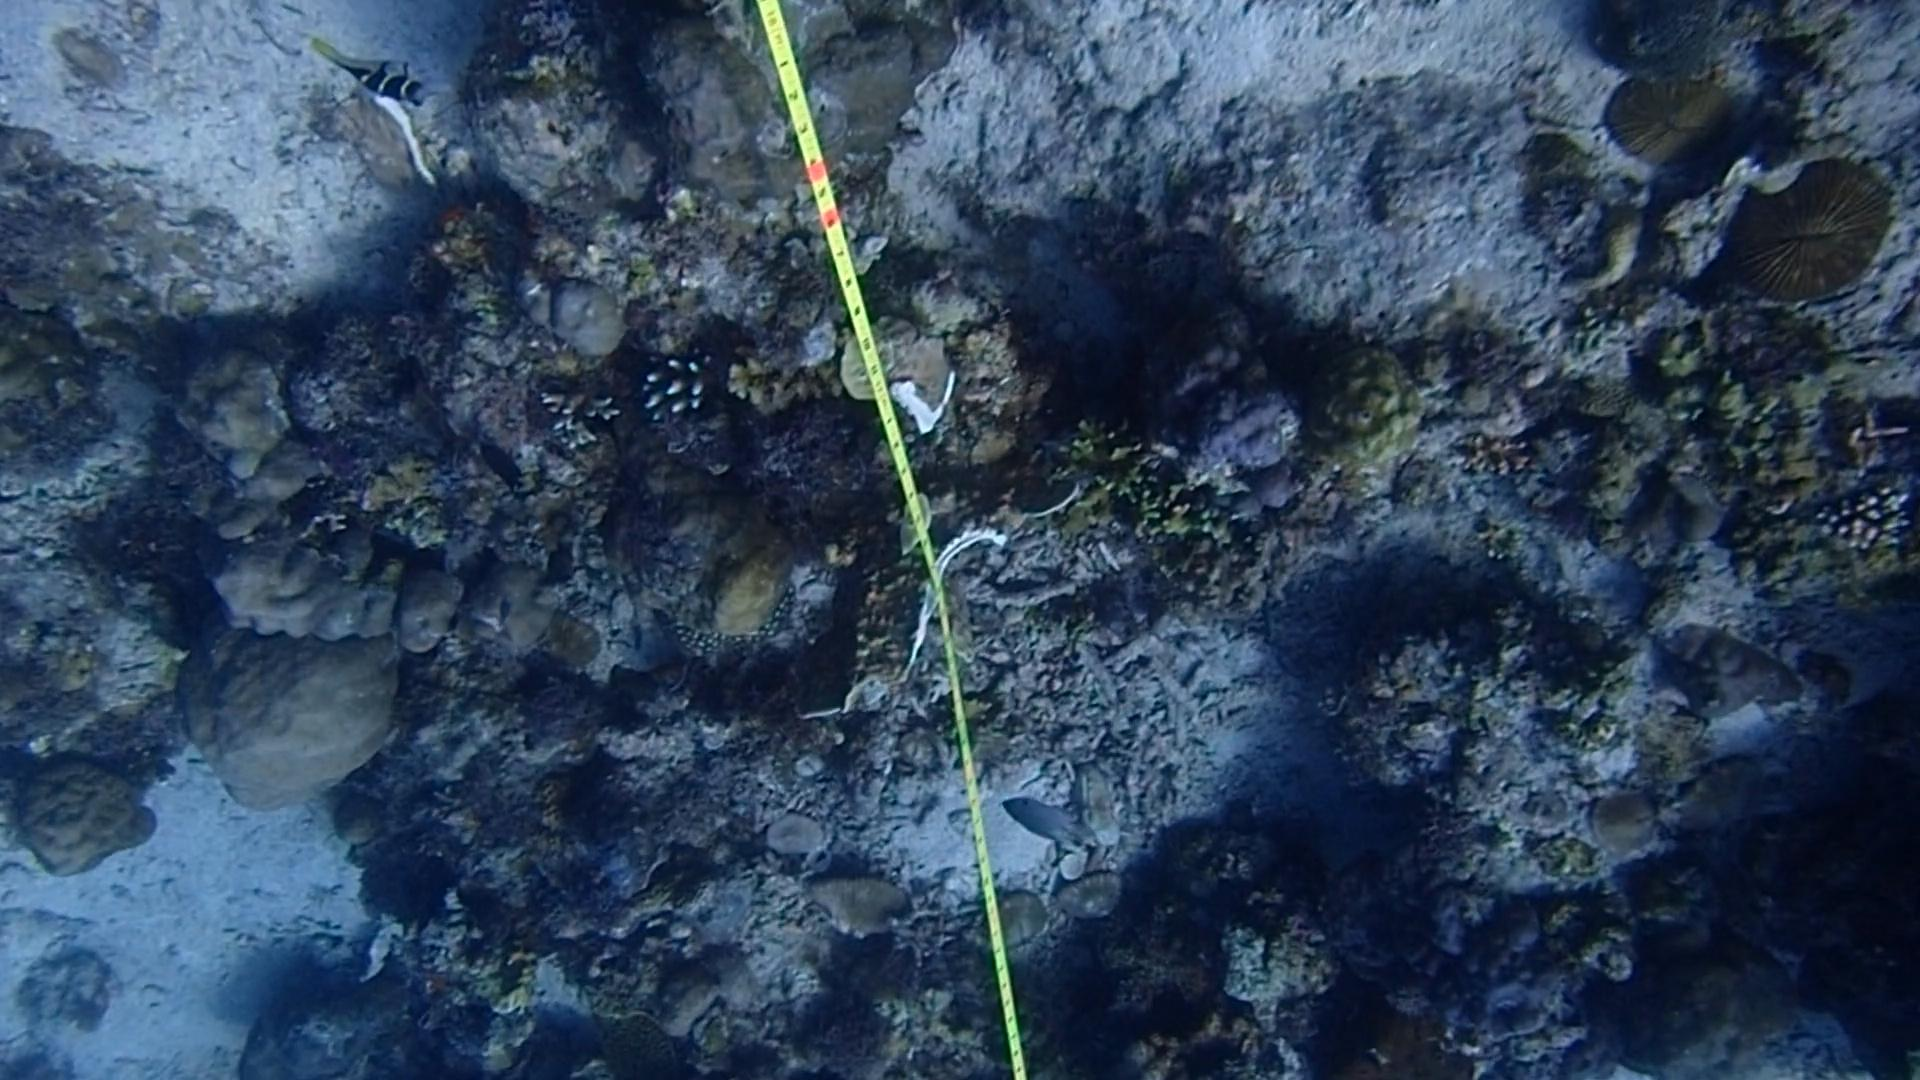Striped Fish: (313, 32, 430, 115)
